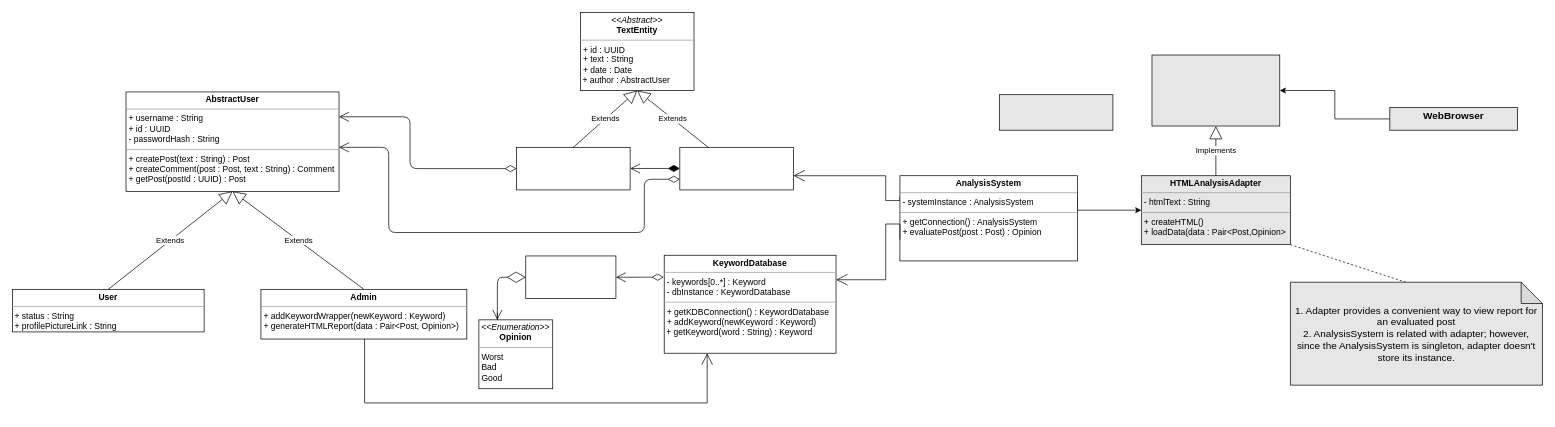
Image size: 1555x427. Some labels were removed from this diagram. The shapes that lost their labels are listed below. From the top down, each one's box as (x1, y1, x2, y2) in pixels, then its label:
(1151, 54, 1280, 126): << Interface >> HTMLSupport + createHTML() + loadData(data : T)
(999, 94, 1113, 130): << DataType >> Pair<L,R>
(516, 147, 630, 190): Comment + likes : Integer
(679, 147, 793, 190): Post + comments[0..*] : Comment
(525, 255, 616, 299): Keyword + word : String + opinion : Opinion
